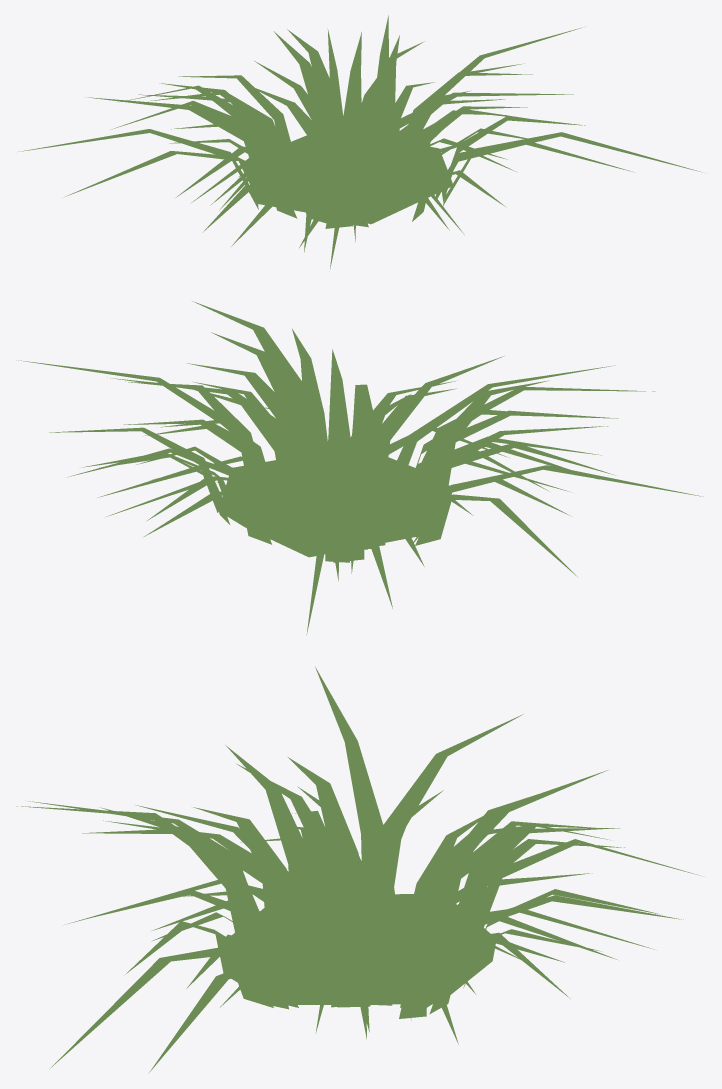
Rendered from Blender_TallFescue_2.glb.
The picture shows the model from 3 angles, top to bottom: view 1: azimuth 30°, elevation 25°; view 2: azimuth 150°, elevation 25°; view 3: azimuth 270°, elevation 25°; orthographic projection. The views are drawn at different scales.
Parts seen in each view (by area): view 1: Blender_TallFescue_2; view 2: Blender_TallFescue_2; view 3: Blender_TallFescue_2.
Part boxes in pixels (bbox=[...]): Blender_TallFescue_2: bbox=[18, 15, 701, 269]; Blender_TallFescue_2: bbox=[16, 301, 703, 634]; Blender_TallFescue_2: bbox=[16, 666, 700, 1073].
Size of the model in its own units: 1.54 by 0.2356 by 1.23.
